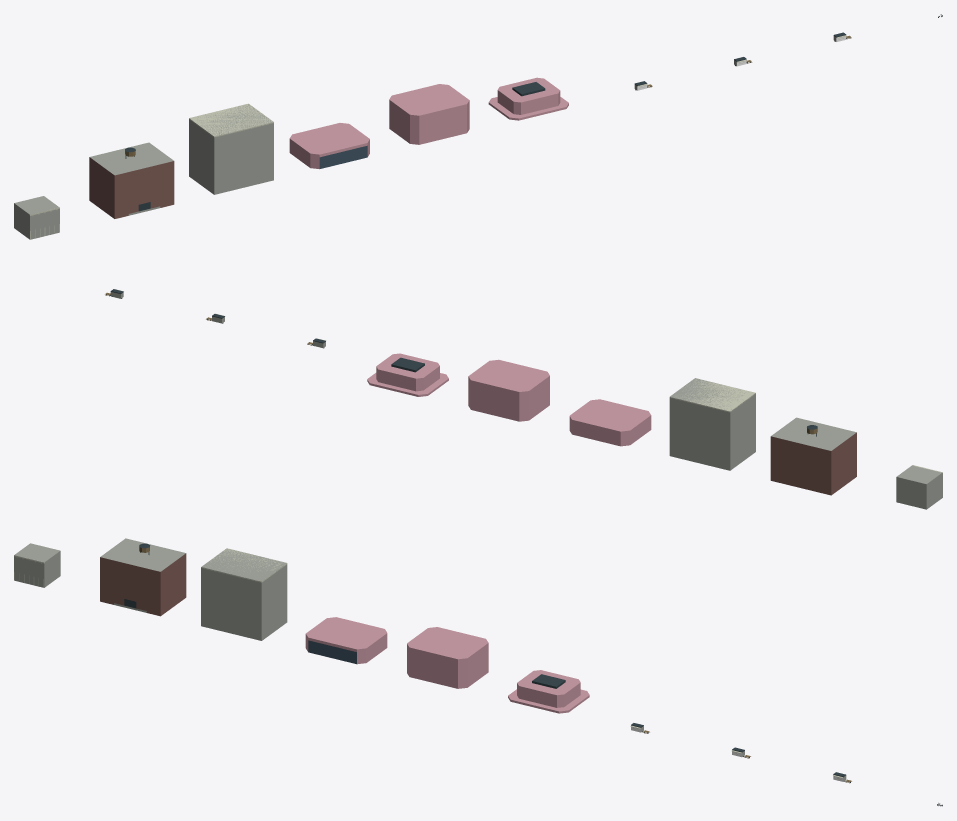
Rendered from pdx-downtown.glb.
The picture shows the model from 3 angles, top to bottom: view 1: azimuth 30°, elevation 25°; view 2: azimuth 150°, elevation 25°; view 3: azimuth 330°, elevation 25°; orthographic projection.
Parts seen in each view (by area): view 1: pdx_office_block, pdx_brick_loft, pdx_pink_tower_mid, pdx_pink_tower_base_body, pdx_brick_loft_body, pdx_pink_tower_mid_body, pdx_office_block_body, pdx_pink_tower_crown_body, pdx_cast_iron, pdx_pink_tower_crown, pdx_pink_tower_base, pdx_cast_iron_body; view 2: pdx_office_block, pdx_brick_loft, pdx_pink_tower_mid, pdx_pink_tower_mid_body, pdx_pink_tower_base_body, pdx_office_block_body, pdx_pink_tower_crown_body, pdx_brick_loft_body, pdx_pink_tower_base, pdx_cast_iron, pdx_pink_tower_crown; view 3: pdx_office_block, pdx_brick_loft, pdx_pink_tower_mid, pdx_pink_tower_base_body, pdx_brick_loft_body, pdx_pink_tower_mid_body, pdx_office_block_body, pdx_pink_tower_crown_body, pdx_cast_iron, pdx_pink_tower_crown, pdx_pink_tower_base, pdx_cast_iron_body.
Boxes of the visible parts, x1=… form: pdx_office_block: x1=189, y1=119, x2=273, y2=194; pdx_brick_loft: x1=89, y1=157, x2=174, y2=218; pdx_pink_tower_mid: x1=389, y1=100, x2=469, y2=144; pdx_pink_tower_base_body: x1=289, y1=123, x2=369, y2=168; pdx_brick_loft_body: x1=90, y1=142, x2=173, y2=215; pdx_pink_tower_mid_body: x1=389, y1=84, x2=469, y2=115; pdx_office_block_body: x1=189, y1=103, x2=273, y2=137; pdx_pink_tower_crown_body: x1=488, y1=77, x2=568, y2=120; pdx_cast_iron: x1=14, y1=203, x2=59, y2=239; pdx_pink_tower_crown: x1=497, y1=90, x2=560, y2=114; pdx_pink_tower_base: x1=289, y1=139, x2=369, y2=168; pdx_cast_iron_body: x1=14, y1=196, x2=59, y2=239; pdx_office_block: x1=669, y1=393, x2=755, y2=470; pdx_brick_loft: x1=770, y1=432, x2=856, y2=495; pdx_pink_tower_mid: x1=468, y1=376, x2=549, y2=421; pdx_pink_tower_mid_body: x1=468, y1=359, x2=549, y2=391; pdx_pink_tower_base_body: x1=570, y1=399, x2=650, y2=431; pdx_office_block_body: x1=669, y1=378, x2=755, y2=412; pdx_pink_tower_crown_body: x1=367, y1=353, x2=448, y2=396; pdx_brick_loft_body: x1=771, y1=417, x2=856, y2=450; pdx_pink_tower_base: x1=569, y1=415, x2=651, y2=446; pdx_cast_iron: x1=896, y1=472, x2=942, y2=509; pdx_pink_tower_crown: x1=376, y1=366, x2=439, y2=391; pdx_office_block: x1=201, y1=564, x2=287, y2=640; pdx_brick_loft: x1=100, y1=553, x2=186, y2=616; pdx_pink_tower_mid: x1=407, y1=643, x2=488, y2=688; pdx_pink_tower_base_body: x1=306, y1=617, x2=386, y2=664; pdx_brick_loft_body: x1=100, y1=538, x2=185, y2=612; pdx_pink_tower_mid_body: x1=407, y1=627, x2=488, y2=659; pdx_office_block_body: x1=201, y1=548, x2=287, y2=582; pdx_pink_tower_crown_body: x1=508, y1=670, x2=589, y2=713; pdx_cast_iron: x1=14, y1=551, x2=60, y2=587; pdx_pink_tower_crown: x1=517, y1=683, x2=580, y2=707; pdx_pink_tower_base: x1=305, y1=633, x2=387, y2=664; pdx_cast_iron_body: x1=14, y1=543, x2=59, y2=587.
Bounding box in the file's own units: 459 × 28 × 24.8.
